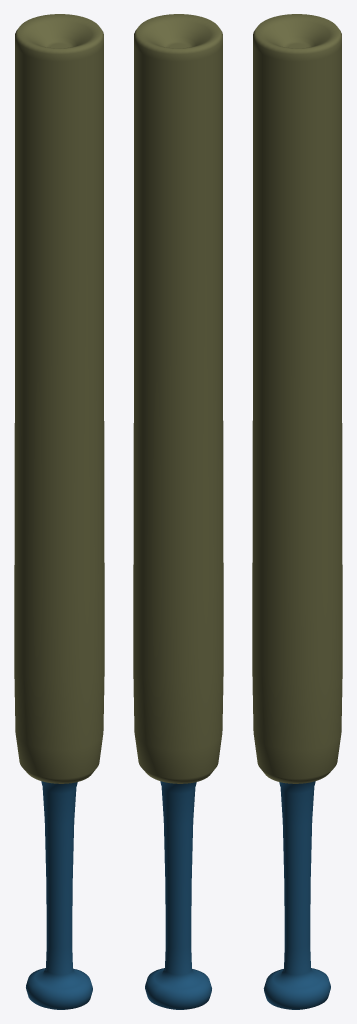
File: BatSmoothedUVFixed.fbx
3 views of the same model, side by side, from view 1: azimuth 30°, elevation 25°; view 2: azimuth 210°, elevation 25°; view 3: azimuth 330°, elevation 25° (orthographic).
Parts seen in each view (by area): view 1: BatSmooth:pCylinder1; view 2: BatSmooth:pCylinder1; view 3: BatSmooth:pCylinder1.
Boxes of the visible parts, x1=… form: BatSmooth:pCylinder1: x1=14, y1=14, x2=104, y2=1009; BatSmooth:pCylinder1: x1=133, y1=14, x2=223, y2=1009; BatSmooth:pCylinder1: x1=252, y1=14, x2=342, y2=1009.
Bounding box in the file's own units: 5.58 × 65.79 × 5.53.
